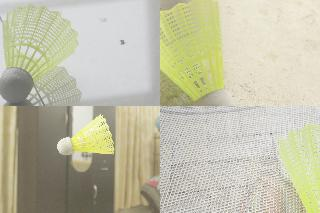shuttlecock: (160, 0, 236, 105), (0, 5, 79, 104), (277, 121, 319, 212), (56, 114, 114, 154)
